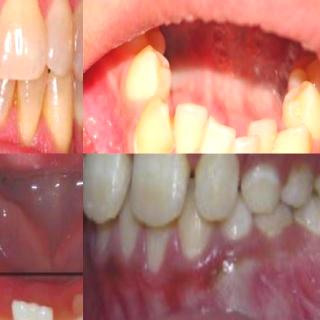calculus: (297, 209, 320, 248), (284, 156, 312, 186), (261, 216, 286, 249)
maligned: (122, 92, 176, 154), (169, 100, 207, 154), (190, 116, 236, 154), (242, 114, 282, 154), (270, 120, 310, 154), (14, 292, 56, 320), (225, 128, 262, 154)
stains: (7, 75, 25, 121)
